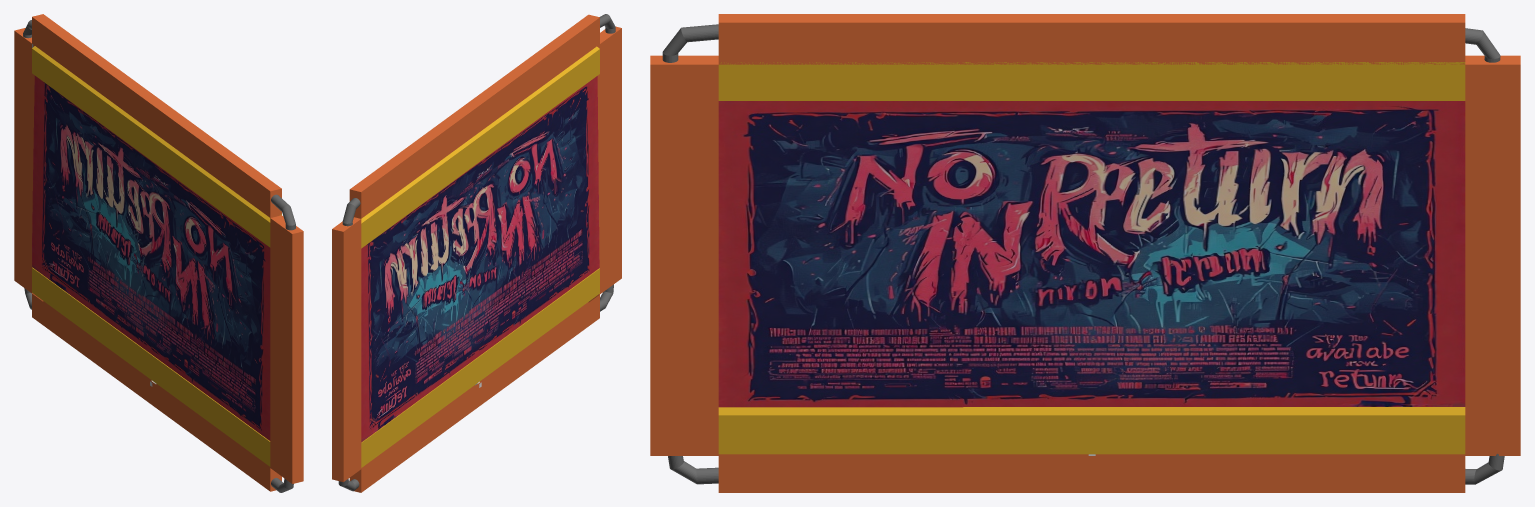
File: billboard 1.fbx
The picture shows the model from 3 angles, left to right: view 1: azimuth 30°, elevation 25°; view 2: azimuth 150°, elevation 25°; view 3: azimuth 270°, elevation 25°; orthographic projection. The views are drawn at different scales.
Parts seen in each view (by area): view 1: Plane, Cube.005, Cube.002, Cube.006, Cube.007, Cube.003, Cube.004, Cylinder; view 2: Plane, Cube.005, Cube.004, Cube.006, Cube.007, Cube.003, Cube.002; view 3: Plane, Cube.005, Cube.007, Cube.003, Cube.006, Cube.002, Cube.004, Cylinder.
Boxes of the visible parts, bbox=[...] form: Plane: bbox=[32, 75, 270, 440]; Cube.005: bbox=[32, 14, 281, 217]; Cube.002: bbox=[270, 215, 303, 483]; Cube.006: bbox=[32, 46, 281, 247]; Cube.007: bbox=[32, 267, 270, 466]; Cube.003: bbox=[32, 293, 281, 491]; Cube.004: bbox=[14, 28, 34, 293]; Cylinder: bbox=[271, 194, 295, 230]; Plane: bbox=[361, 76, 599, 442]; Cube.005: bbox=[349, 14, 599, 218]; Cube.004: bbox=[332, 217, 361, 482]; Cube.006: bbox=[361, 46, 599, 248]; Cube.007: bbox=[361, 268, 599, 467]; Cube.003: bbox=[349, 294, 599, 492]; Cube.002: bbox=[597, 26, 621, 294]; Plane: bbox=[718, 101, 1465, 407]; Cube.005: bbox=[718, 14, 1465, 64]; Cube.007: bbox=[718, 407, 1465, 454]; Cube.003: bbox=[718, 454, 1465, 492]; Cube.006: bbox=[718, 62, 1465, 100]; Cube.002: bbox=[650, 55, 718, 455]; Cube.004: bbox=[1465, 55, 1520, 455]; Cylinder: bbox=[662, 24, 718, 62].
Size of the model in its own units: 616 by 14403 by 24166.
4 materials, 1 textured.
